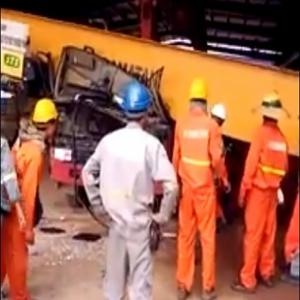blue: (123, 82, 152, 127)
white: (261, 95, 283, 125), (210, 104, 227, 127)
yellow: (34, 97, 60, 140), (189, 79, 208, 109)
